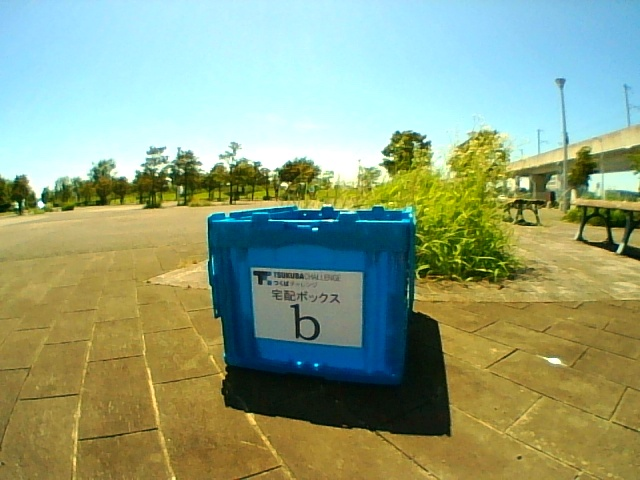blue_box: (226, 213, 399, 372)
tag_b: (254, 271, 363, 340)
